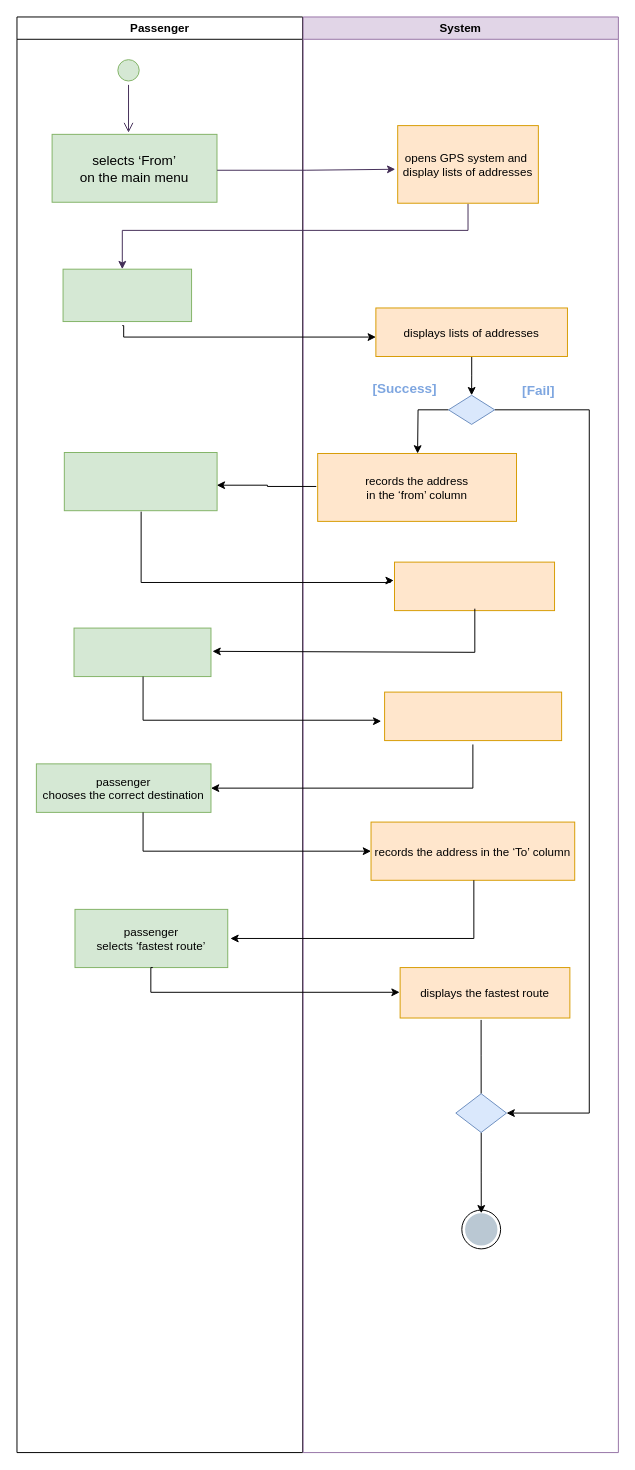
Image size: 635x1470. Some labels were removed from this diagram. Here are the shapes that lost their labels. From the top down, the centre of each, then its label:
point (127, 295): passenger chooses ‘Find my current location’
point (140, 481): The passenger selects ‘To’ on the main menu
point (474, 586): displays a blank searching destination menu
point (142, 652): passenger types in the destination address
point (473, 716): displays lists of potential destination addresses
